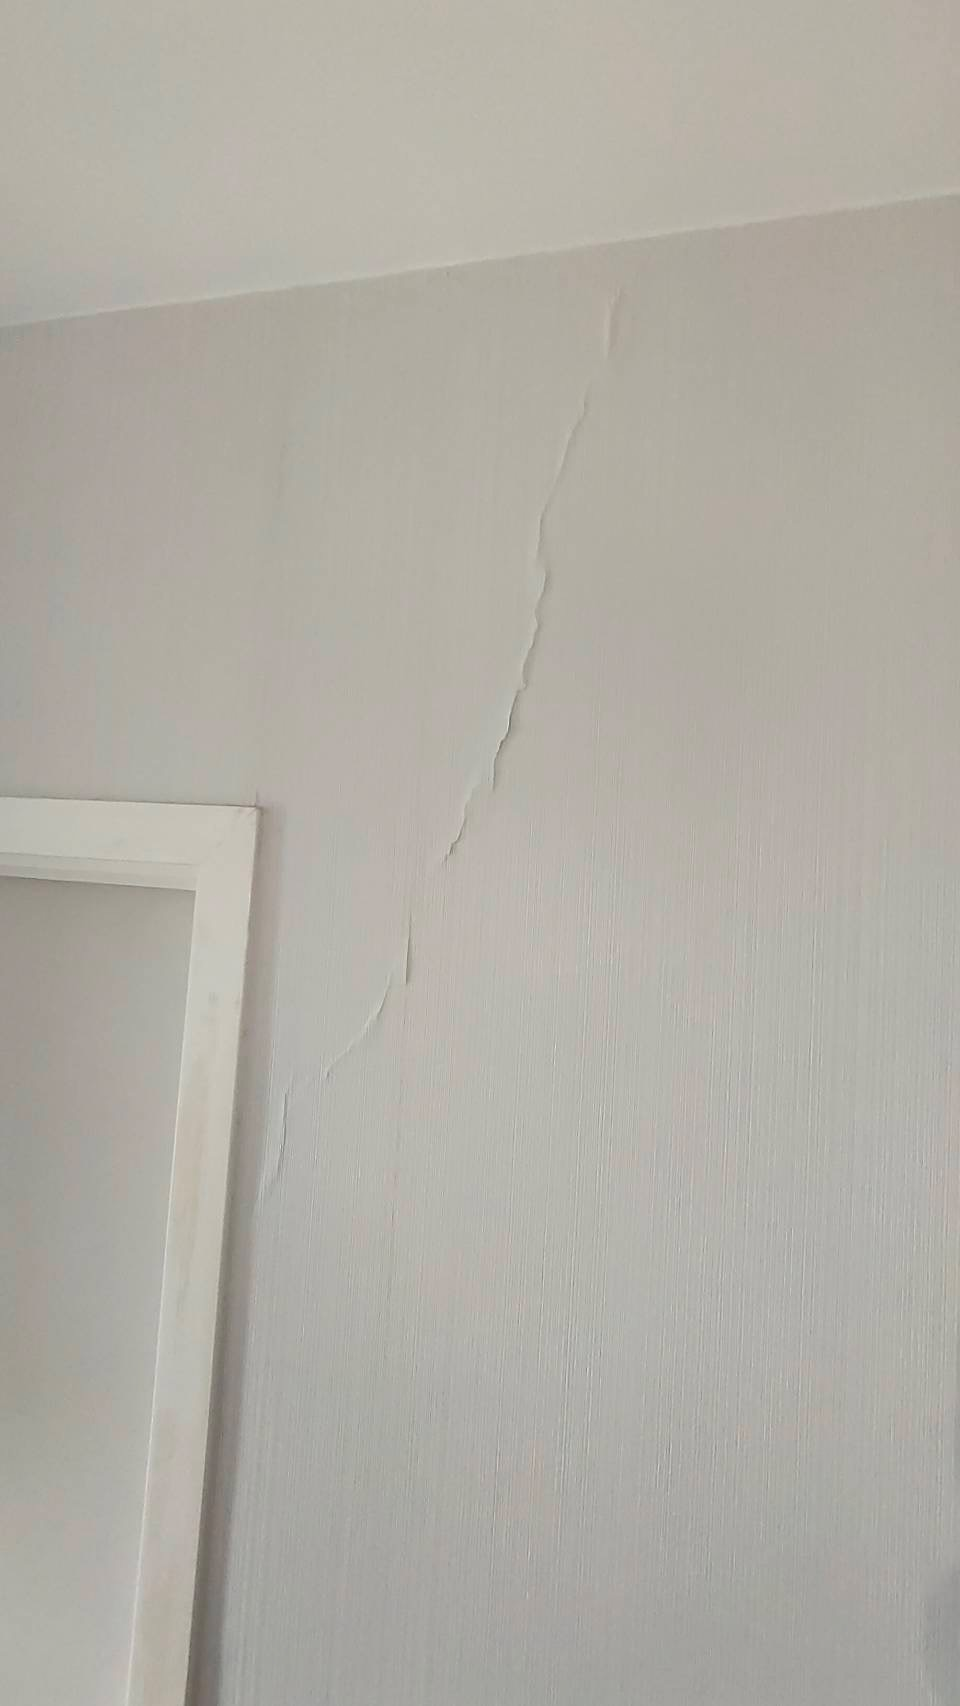Low: (239, 253, 731, 1207)
